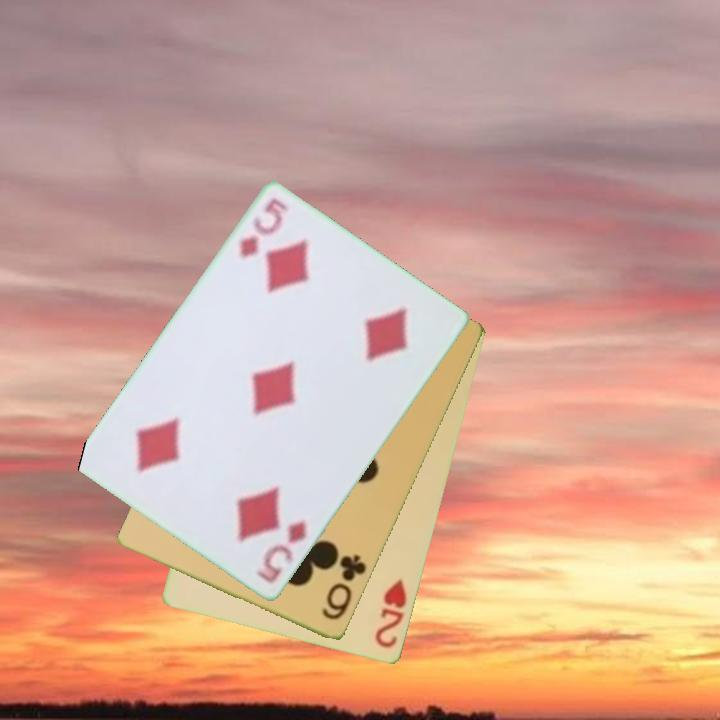2h: (371, 576, 410, 652)
5d: (252, 517, 310, 587), (235, 195, 291, 262)
6c: (318, 551, 370, 624)
